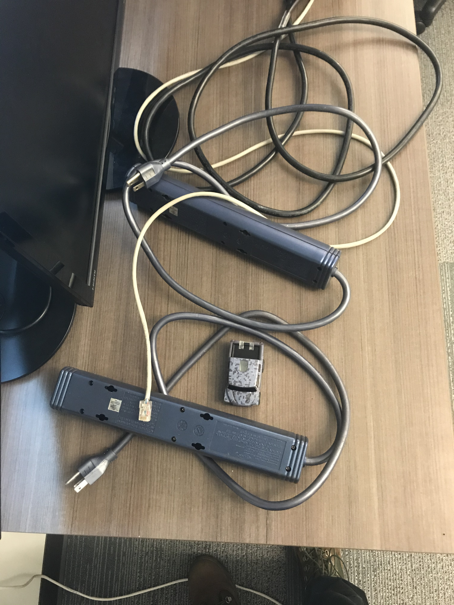MXT: (221, 338, 267, 408)
